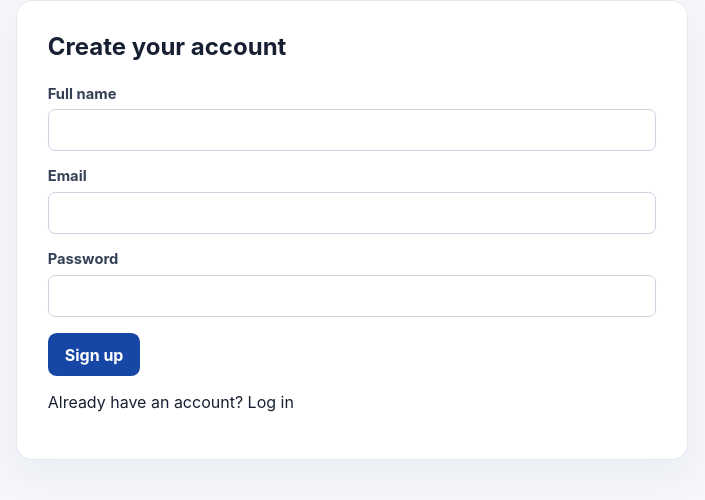
Test case: login and register forms › validates the register password limits
Type "Ana" into the field labelled "Full name" at [352, 130], box [48,109,656,152]
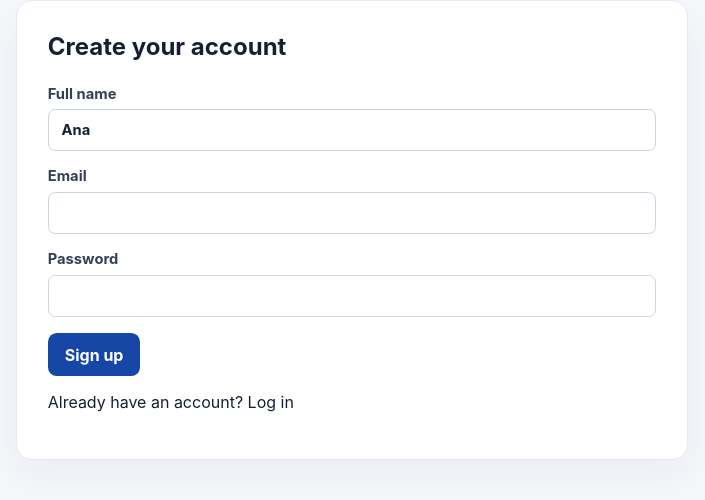
Type "ana@example.com" into the field labelled "Email" at [352, 213], box [48,192,656,234]
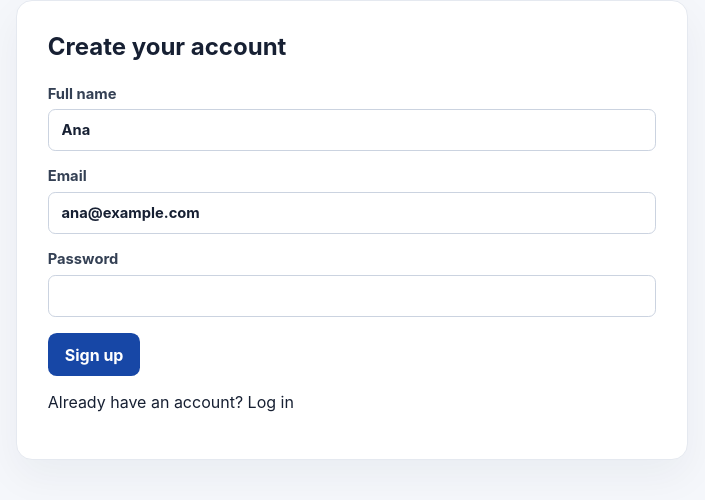
Type "short" into the password field labelled "Password" at [352, 296], box [48,275,656,317]
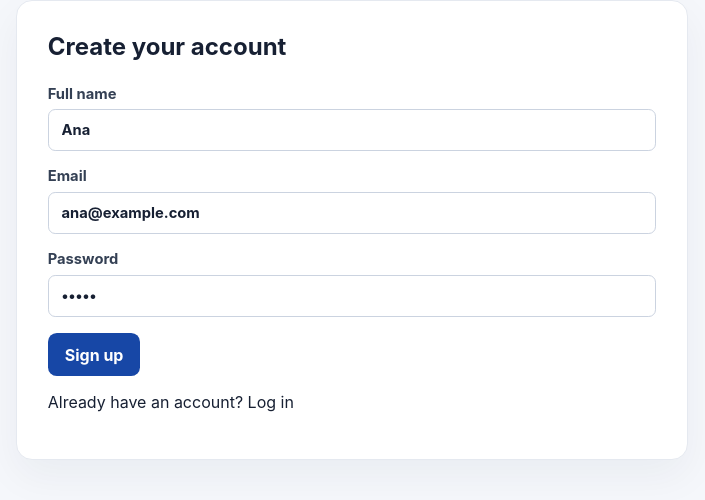
Click the button "Sign up" at [94, 355], box [48,333,140,376]
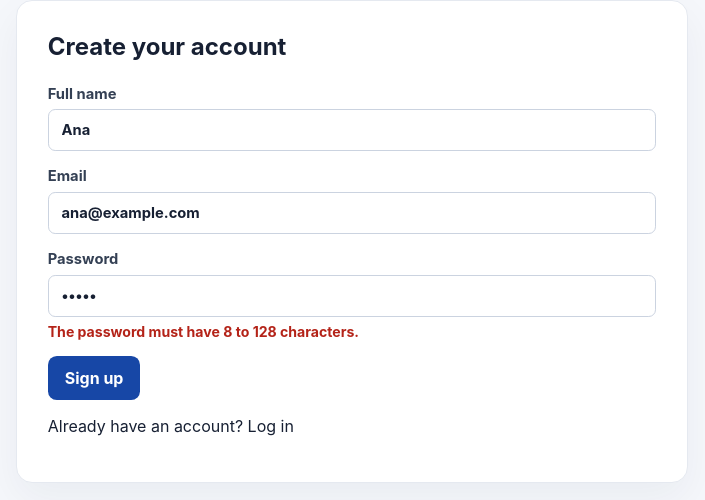
Expected: the message shows "8 to 128", [48,323,359,340]
